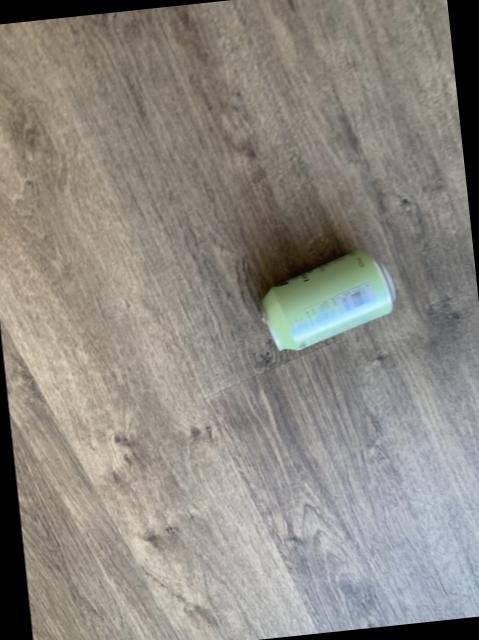metal: (259, 248, 393, 348)
